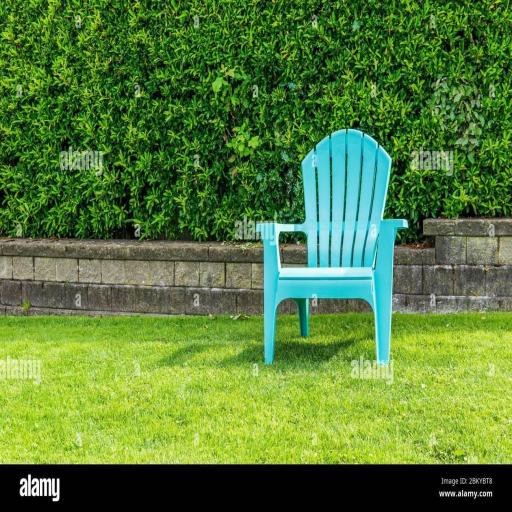chair: (253, 123, 411, 370)
